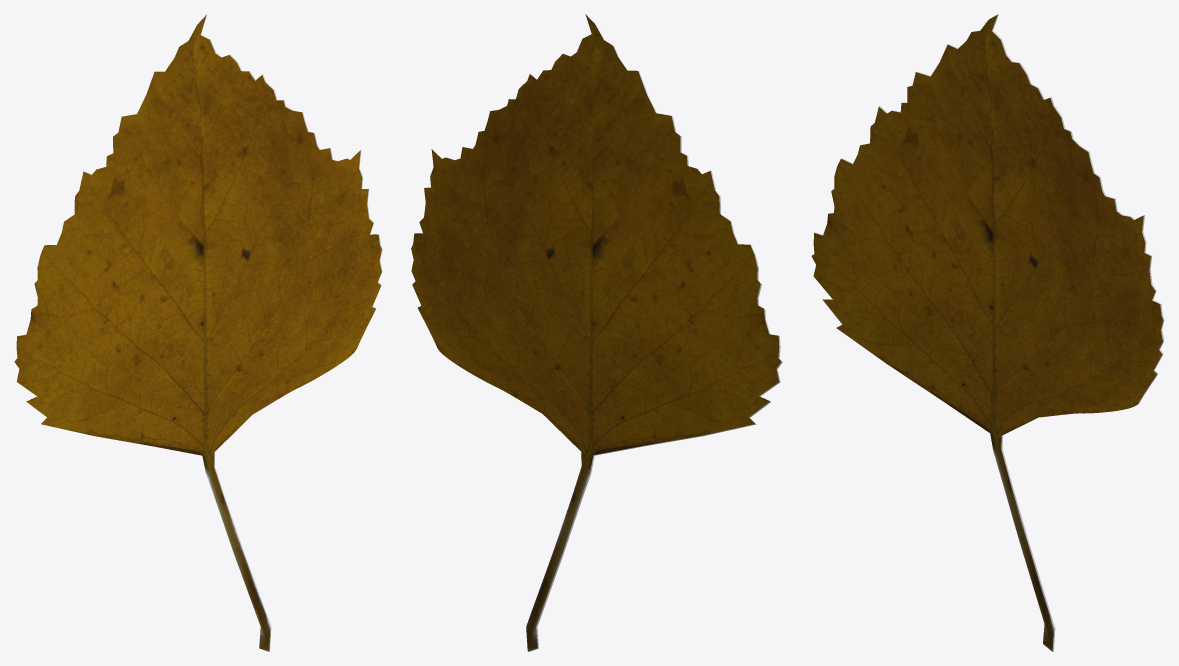
Rendered from birch_leaf.obj.
The picture shows the model from 3 angles, left to right: view 1: azimuth 30°, elevation 25°; view 2: azimuth 150°, elevation 25°; view 3: azimuth 330°, elevation 25°; orthographic projection. The views are drawn at different scales.
Visible parts, largest first — view 1: obj1; view 2: obj1; view 3: obj1.
Part boxes in pixels (box(x1,y1,x2,y2)): obj1: box(14, 14, 382, 651); obj1: box(411, 14, 782, 651); obj1: box(811, 14, 1164, 651).
Size of the model in its own units: 0.0297 by 0.05 by 0.000428.
Materials: 1 (1 with a texture image).
